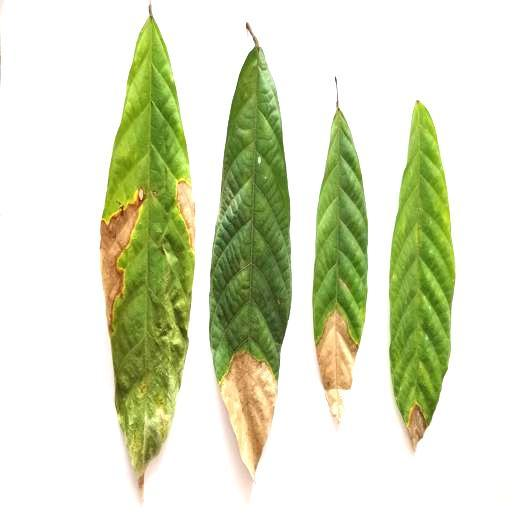Potassium: (101, 9, 194, 490), (209, 24, 290, 477), (390, 101, 454, 448), (314, 82, 367, 422)
